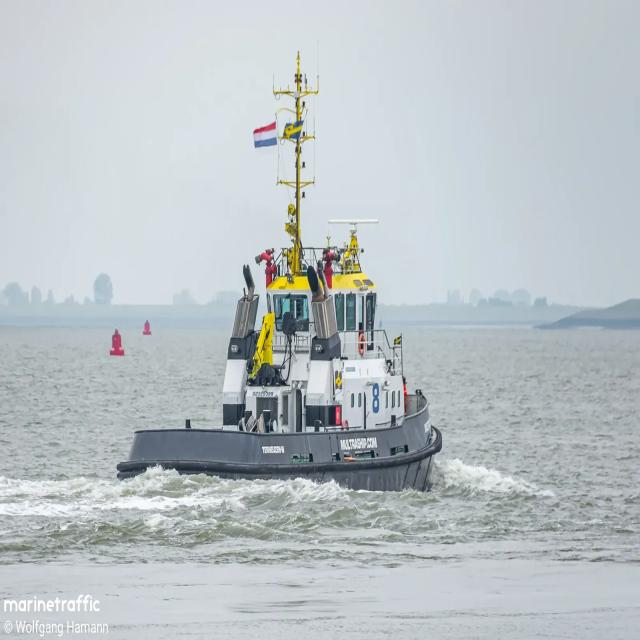Tug: (118, 53, 441, 491)
